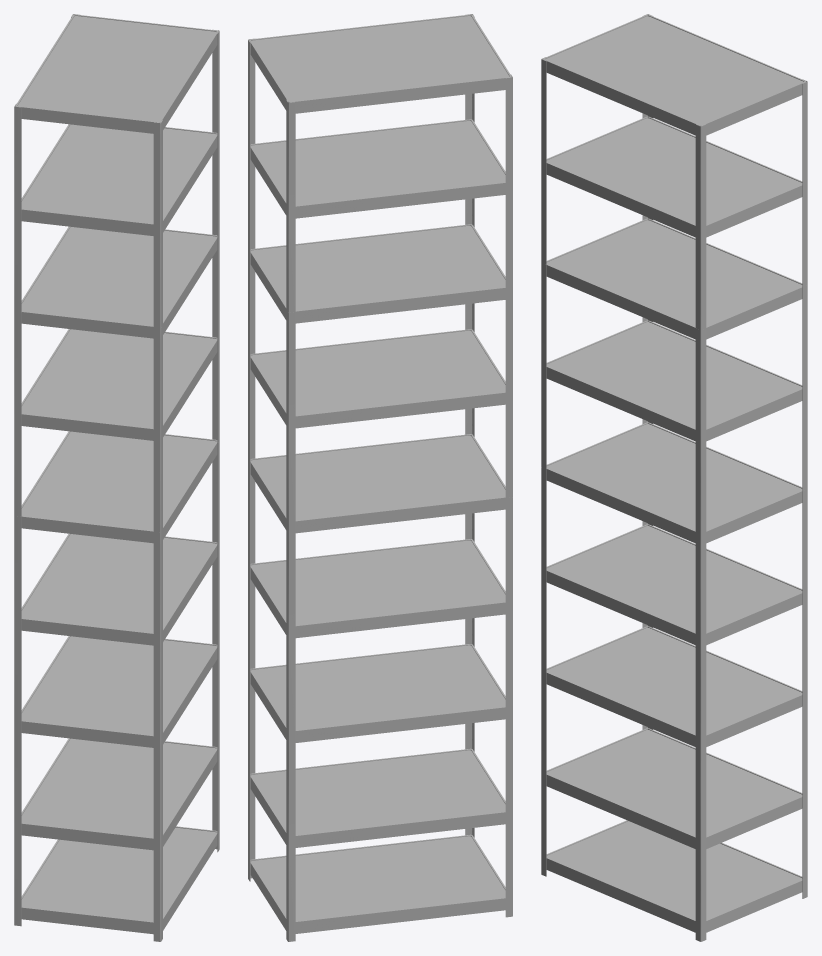
File: sangdo_monsterplus_shelf_600x2400.glb
The picture shows the model from 3 angles, left to right: view 1: azimuth 30°, elevation 25°; view 2: azimuth 150°, elevation 25°; view 3: azimuth 270°, elevation 25°; orthographic projection. The views are drawn at different scales.
Visible parts, largest first — view 1: sangdo_monsterplus_shelf_600x2400; view 2: sangdo_monsterplus_shelf_600x2400; view 3: sangdo_monsterplus_shelf_600x2400.
Part boxes in pixels (bbox=[...]): sangdo_monsterplus_shelf_600x2400: bbox=[14, 14, 219, 941]; sangdo_monsterplus_shelf_600x2400: bbox=[248, 14, 512, 941]; sangdo_monsterplus_shelf_600x2400: bbox=[541, 14, 807, 941].
Size of the model in its own units: 0.7101 by 2.4 by 0.7101.
17 materials, 17 textured.
